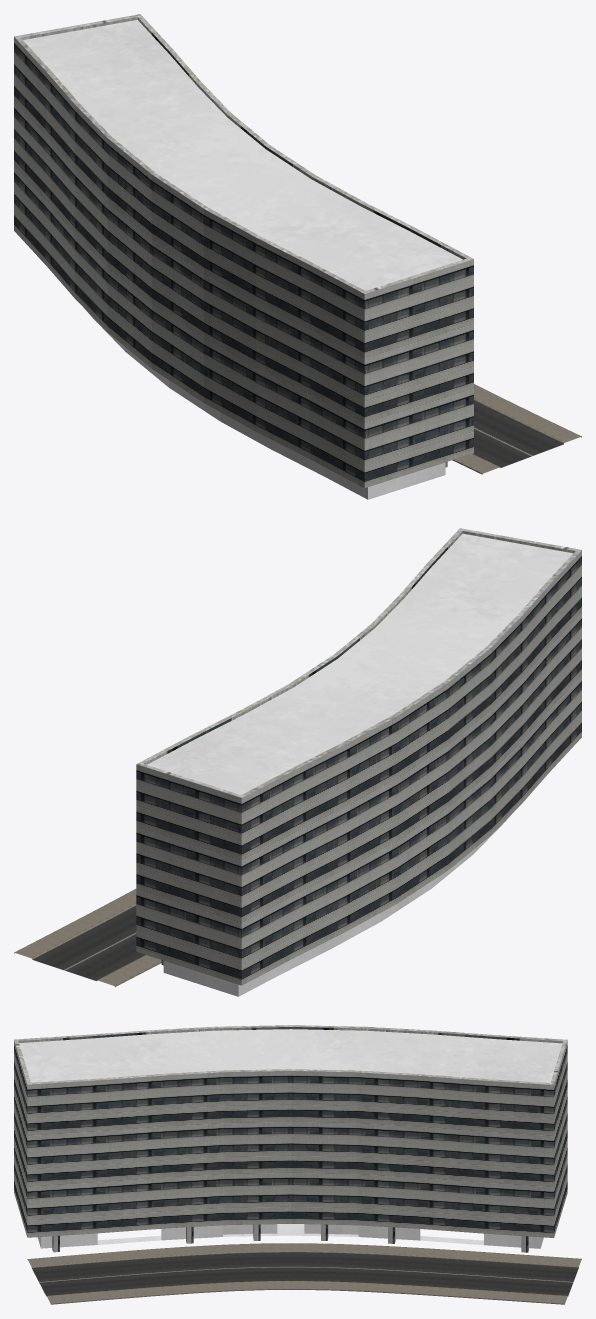
The model's file is grand_hotel_building.glb.
3 renders of one model, top to bottom at view 1: azimuth 30°, elevation 25°; view 2: azimuth 150°, elevation 25°; view 3: azimuth 270°, elevation 25°, orthographic. The views are drawn at different scales.
Parts seen in each view (by area): view 1: Cube, Plane.001; view 2: Cube, Plane.001; view 3: Cube, Plane.001.
Boxes of the visible parts, <box> form: Cube: <box>14,14,473,499</box>; Plane.001: <box>452,384,581,474</box>; Cube: <box>136,528,581,996</box>; Plane.001: <box>14,889,161,986</box>; Cube: <box>14,1025,567,1252</box>; Plane.001: <box>27,1243,581,1304</box>.
Bounding box in the file's own units: 52.38 × 39.72 × 118.
Materials: 3 (3 with a texture image).
